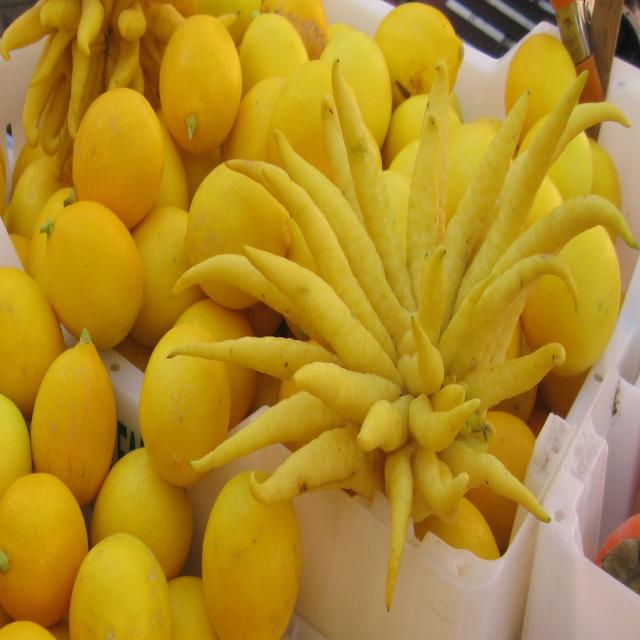Lemon: (0, 0, 625, 639)
